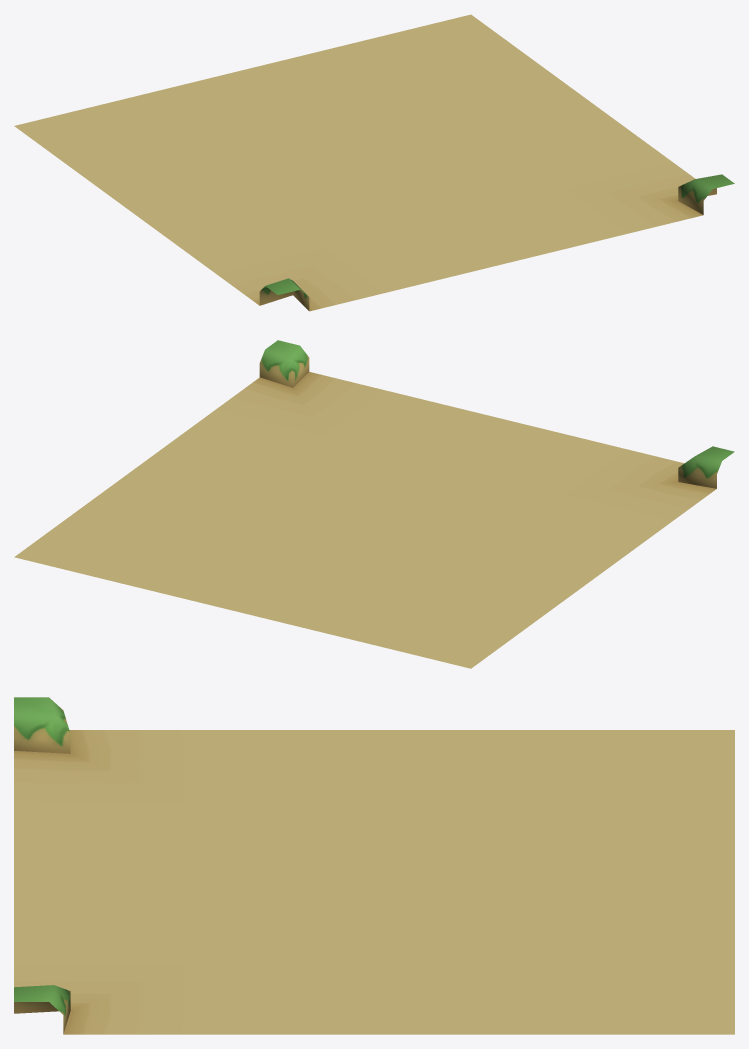
Rendered from Tile09.FBX.
The picture shows the model from 3 angles, top to bottom: view 1: azimuth 30°, elevation 25°; view 2: azimuth 150°, elevation 25°; view 3: azimuth 270°, elevation 25°; orthographic projection. The views are drawn at different scales.
Visible parts, largest first — view 1: Tile09; view 2: Tile09; view 3: Tile09.
Part boxes in pixels (left/top/right/bottom): Tile09: left=14, top=14, right=734, bottom=311; Tile09: left=14, top=340, right=734, bottom=668; Tile09: left=14, top=697, right=734, bottom=1034.
Size of the model in its own units: 500 by 25 by 500.
